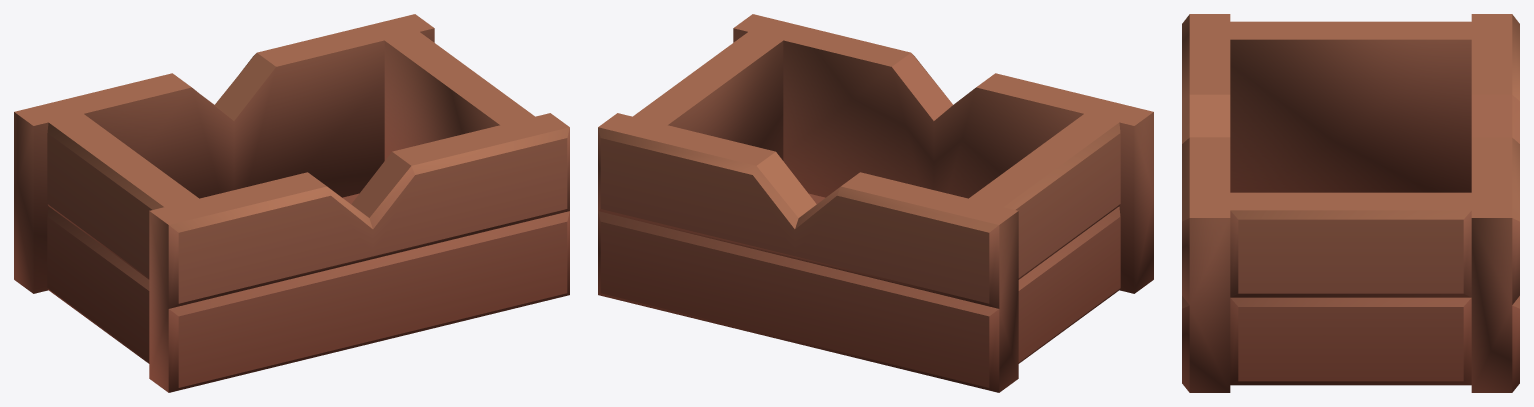
File: crate-optimized.glb
3 views of the same model, side by side, from view 1: azimuth 30°, elevation 25°; view 2: azimuth 150°, elevation 25°; view 3: azimuth 270°, elevation 25° (orthographic). The views are drawn at different scales.
Parts seen in each view (by area): view 1: crate_large; view 2: crate_large; view 3: crate_large.
Part boxes in pixels (x1,y1,x2,y2): crate_large: [14, 14, 569, 392]; crate_large: [598, 14, 1153, 392]; crate_large: [1182, 14, 1519, 392].
Size of the model in its own units: 2 by 0.8 by 1.4.
Materials: 1 (1 with a texture image).
